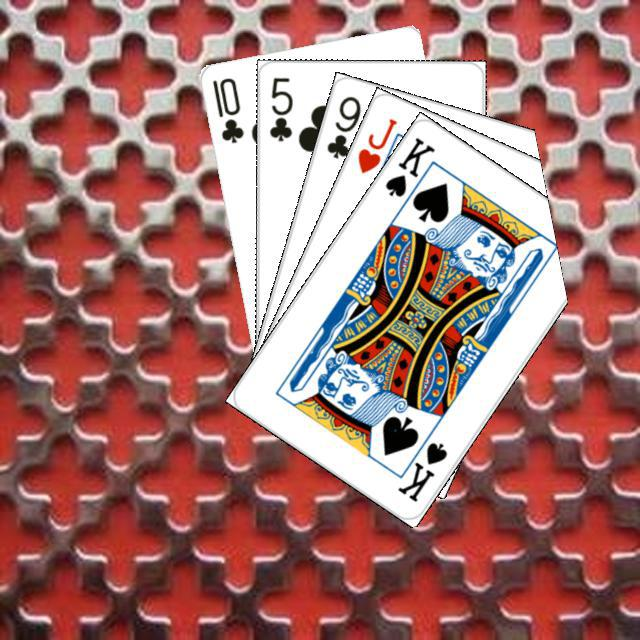10c: (207, 72, 246, 145)
5c: (265, 72, 294, 143)
9c: (321, 91, 363, 160)
Jh: (352, 113, 399, 175)
Ks: (392, 425, 450, 504), (380, 132, 437, 199)
